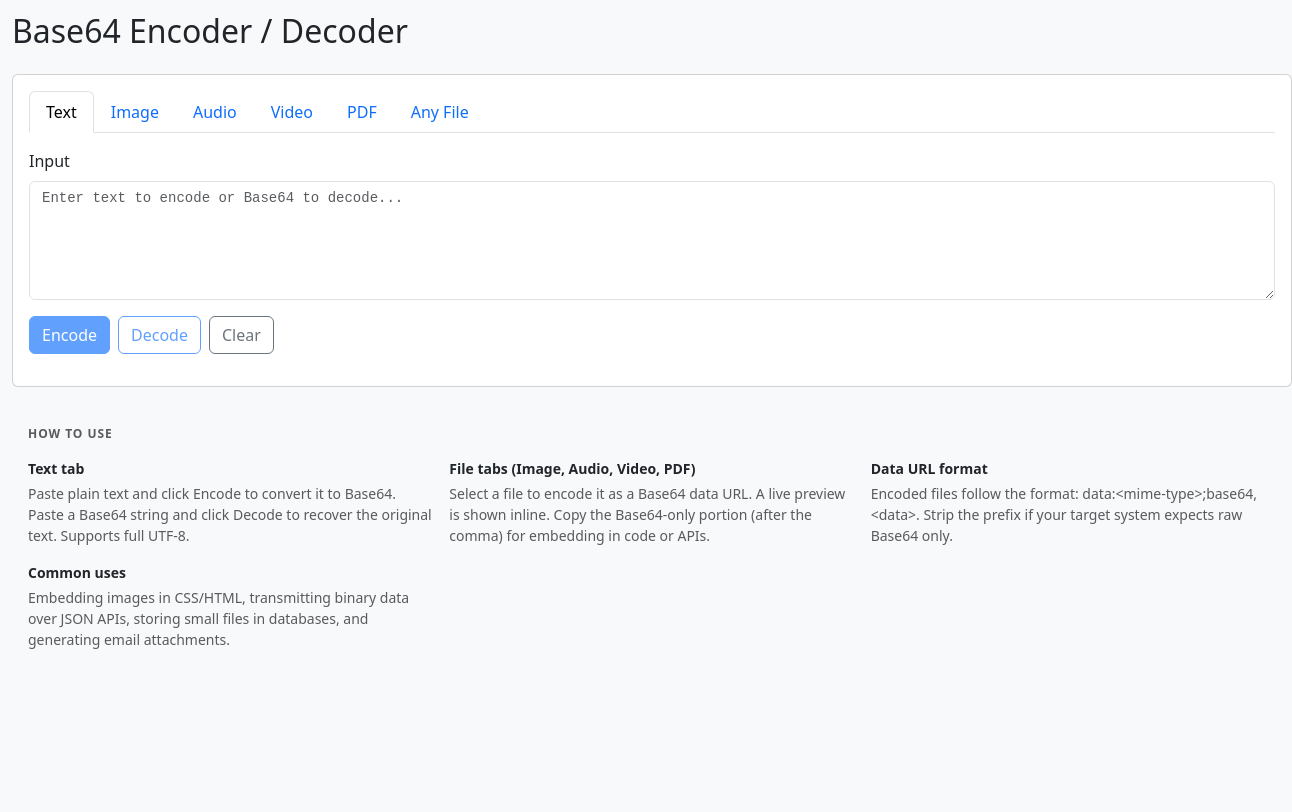
it: Base64Tool — Text tab › decodes base64 on Decode click
The image size is (1292, 812).
In the text box named "Text input": (652, 241) [29,181,1275,300], type "aGVsbG8="
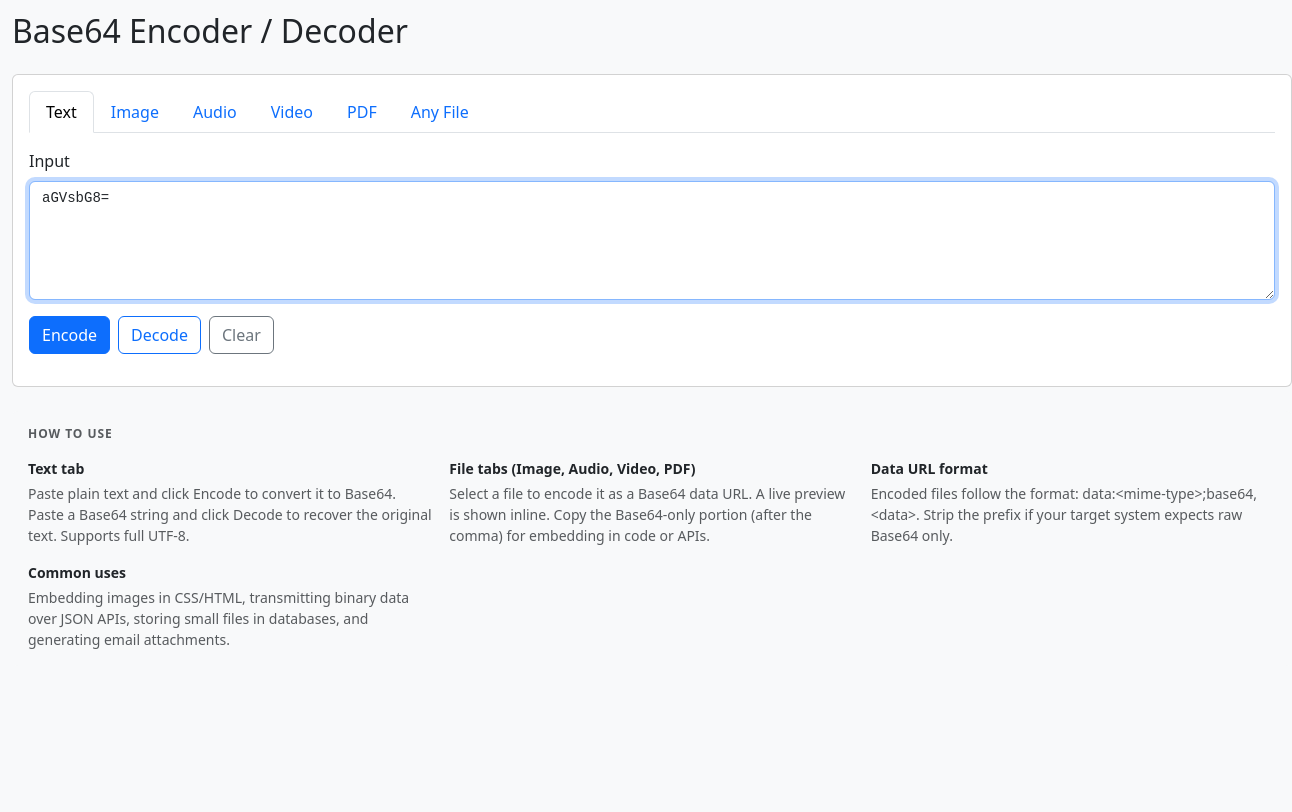
Click the button "Decode": (159, 335) [118,316,201,354]
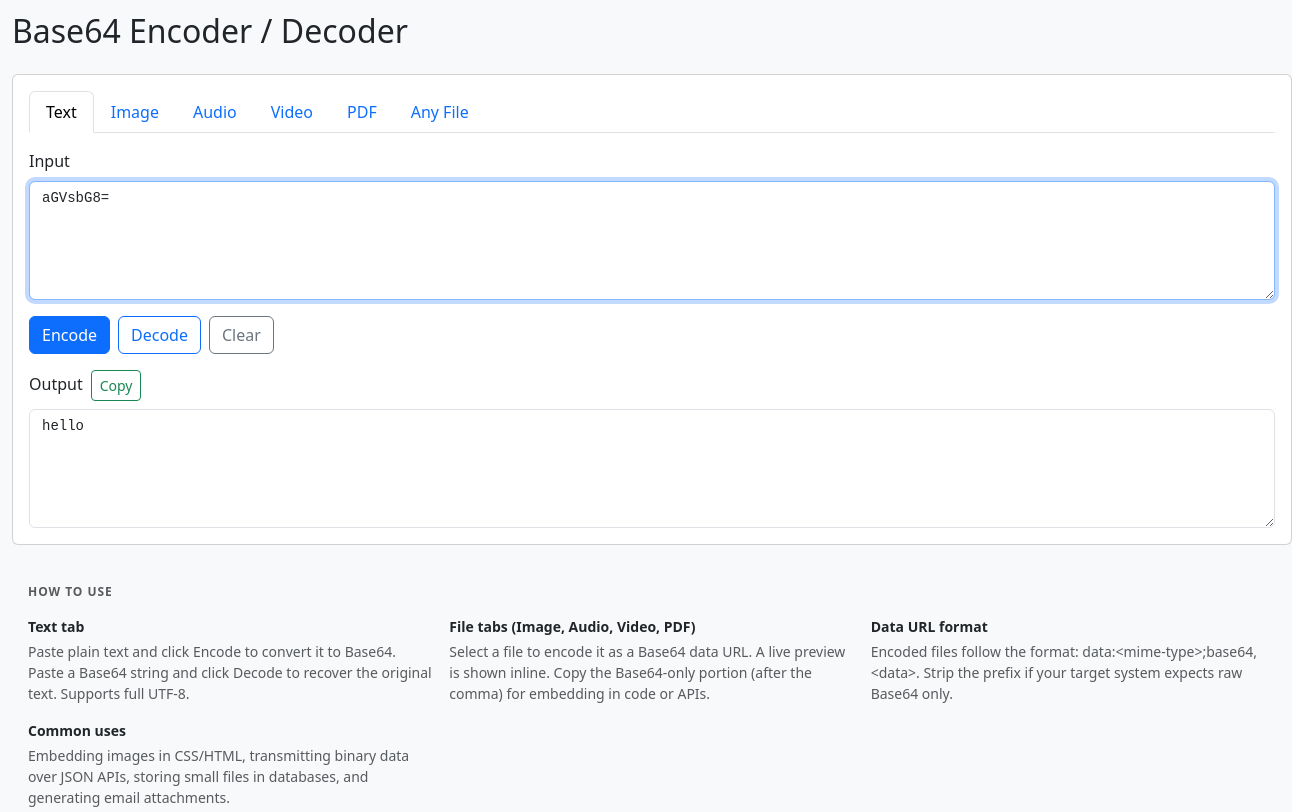
expect the text box named "Text output" holds "hello": met, box [29,409,1275,528]
